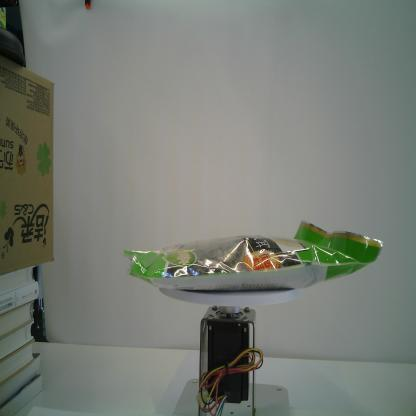Dried Food: (121, 217, 385, 292)
